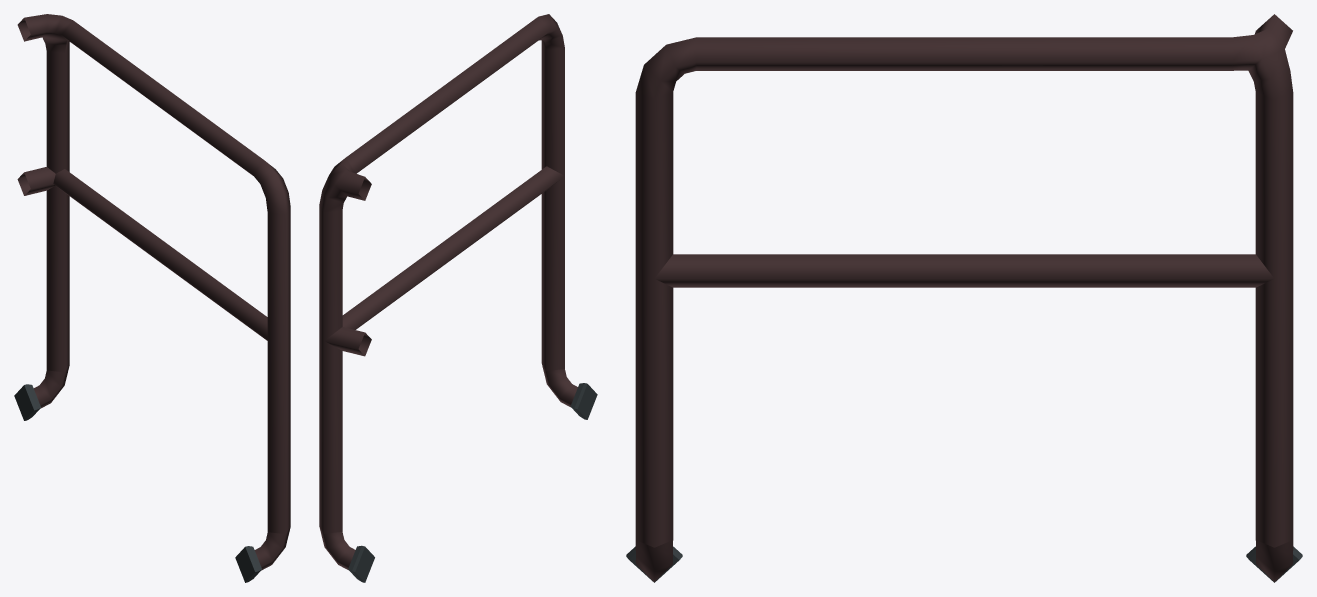
The model's file is SW_ENV_EL_Railing_End.fbx.
3 views of the same model, side by side, from view 1: azimuth 30°, elevation 25°; view 2: azimuth 150°, elevation 25°; view 3: azimuth 270°, elevation 25° (orthographic). The views are drawn at different scales.
Visible parts, largest first — view 1: SW_ENV_EL_Railing_End; view 2: SW_ENV_EL_Railing_End; view 3: SW_ENV_EL_Railing_End.
Part boxes in pixels (x1=…): SW_ENV_EL_Railing_End: x1=14, y1=14, x2=290, y2=582; SW_ENV_EL_Railing_End: x1=319, y1=14, x2=597, y2=582; SW_ENV_EL_Railing_End: x1=626, y1=14, x2=1302, y2=582.
Size of the model in its own units: 0.1406 by 1.19 by 1.29.
